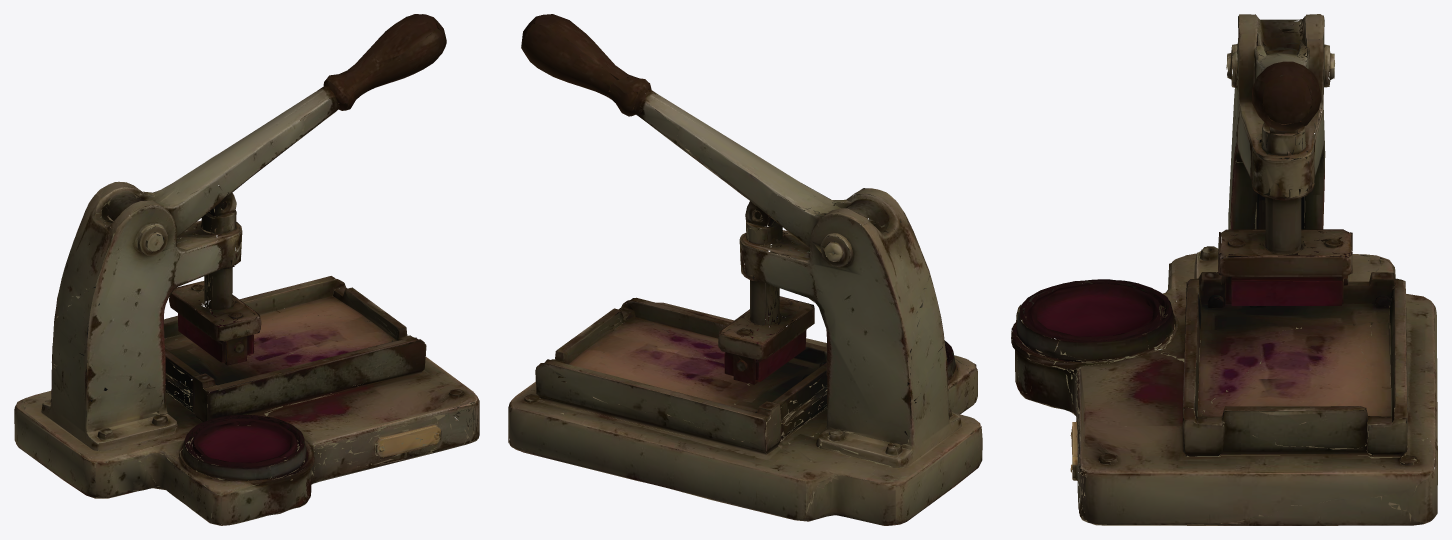
Rendered from ch03_clerk_stamp_machine.glb.
3 views of the same model, side by side, from view 1: azimuth 30°, elevation 25°; view 2: azimuth 150°, elevation 25°; view 3: azimuth 270°, elevation 25° (orthographic). The views are drawn at different scales.
Visible parts, largest first — view 1: material; view 2: material; view 3: material.
Part boxes in pixels (bbox=[...]): material: bbox=[14, 14, 479, 525]; material: bbox=[508, 14, 982, 525]; material: bbox=[1011, 14, 1437, 525].
Bounding box in the file's own units: 0.847 × 0.7512 × 0.6143.
1 material, 1 textured.
